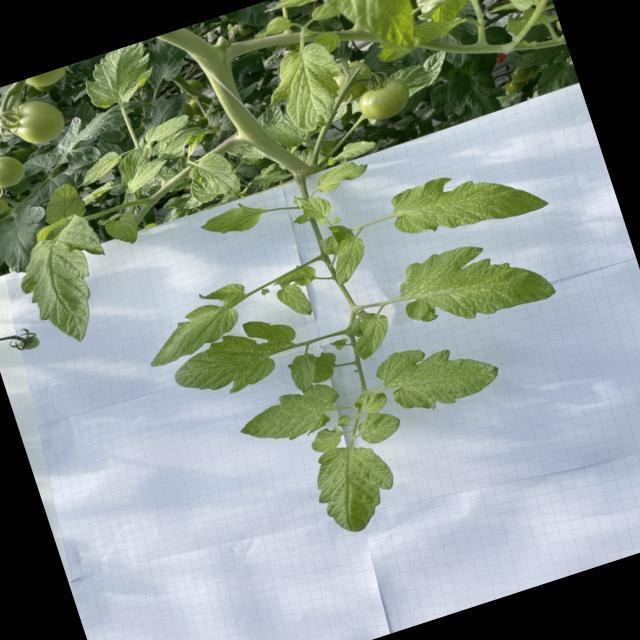Tomato target spot leaf: (388, 220, 560, 344), (382, 146, 552, 256), (5, 209, 130, 355), (162, 310, 310, 410), (368, 322, 508, 424), (132, 278, 260, 371), (305, 432, 411, 542), (256, 35, 358, 141), (232, 376, 351, 460), (76, 40, 164, 114), (197, 194, 271, 247), (184, 146, 245, 210), (146, 118, 227, 166), (323, 232, 375, 288), (346, 310, 398, 362), (326, 233, 374, 287), (36, 180, 90, 228), (312, 156, 374, 196), (74, 146, 128, 188), (354, 405, 406, 448), (120, 156, 175, 196), (139, 112, 196, 150), (262, 112, 310, 156), (412, 9, 467, 46), (294, 186, 338, 232), (102, 208, 144, 252), (275, 279, 315, 324), (270, 259, 320, 295), (286, 350, 324, 394), (308, 423, 348, 456), (351, 387, 391, 419), (252, 11, 294, 41), (260, 0, 324, 18), (309, 0, 342, 23)
